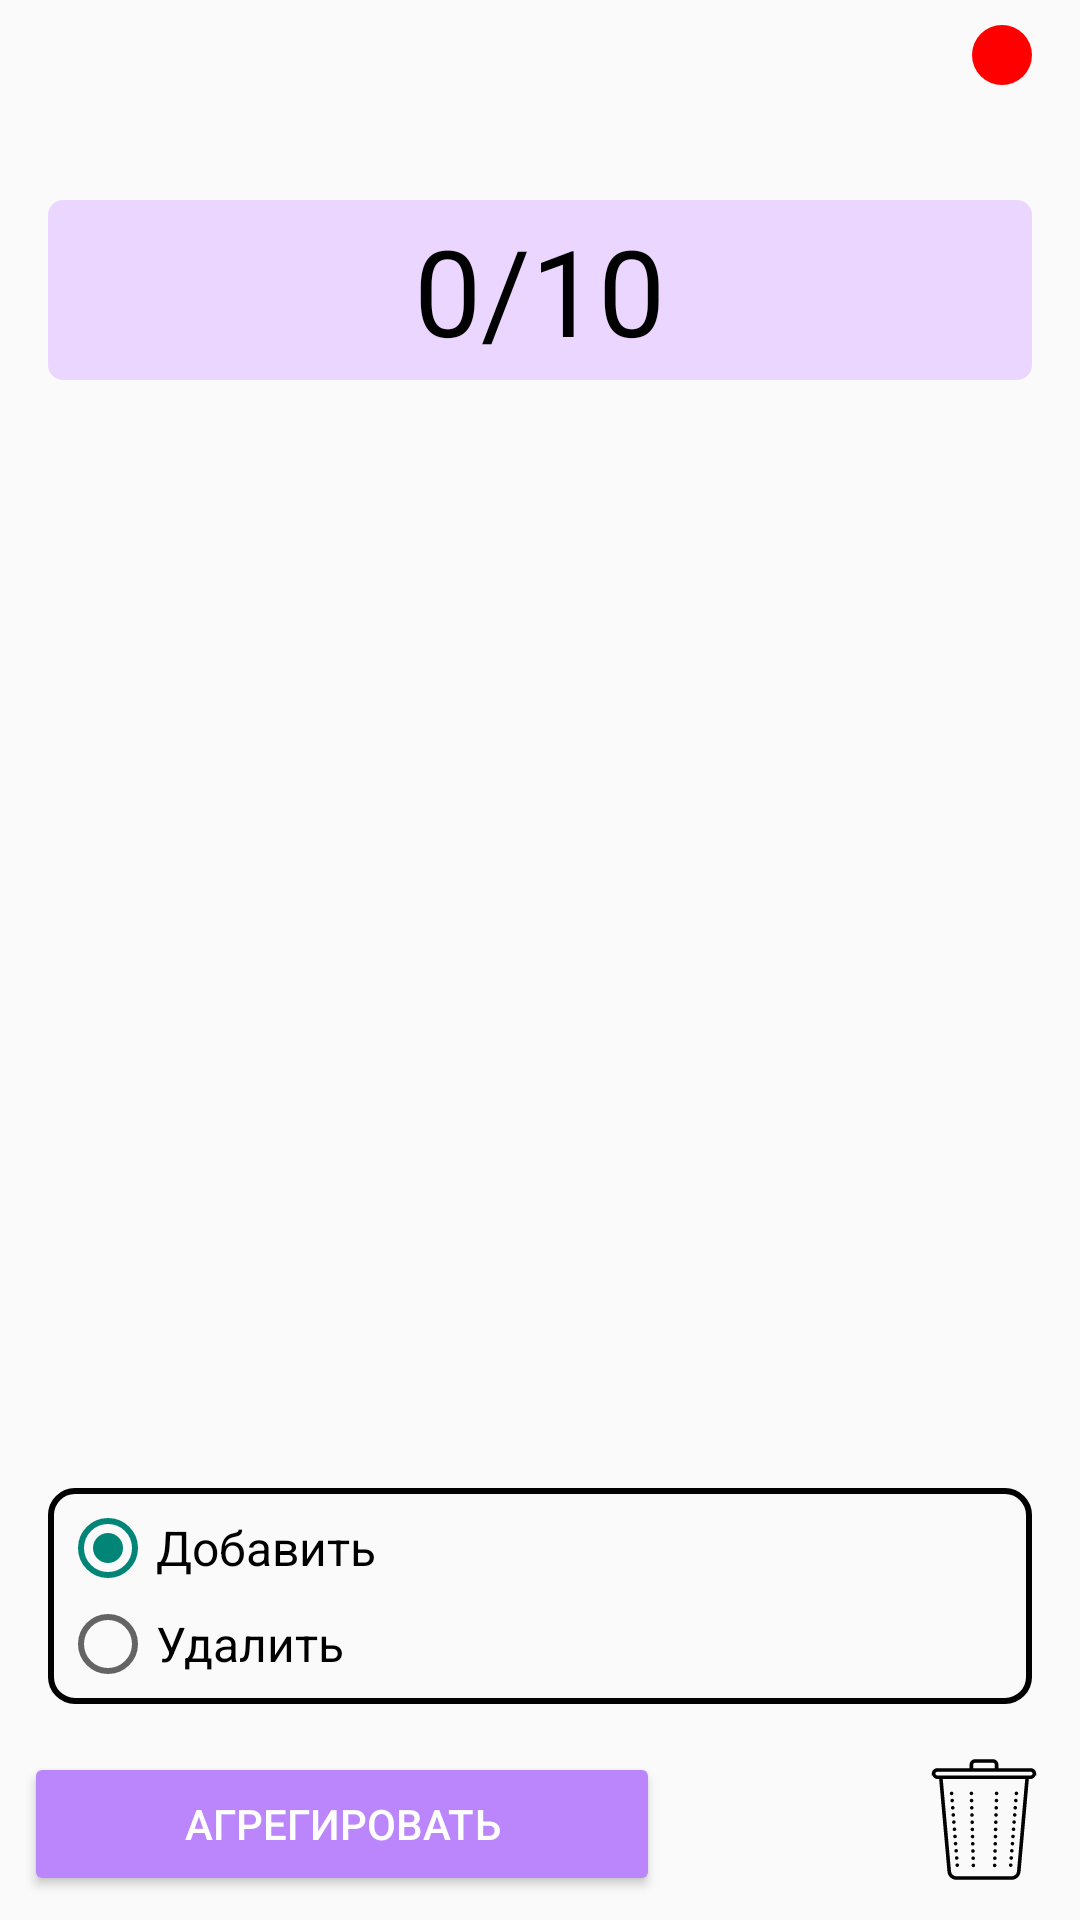

Point at icon controls on the screen. Image size 1080x1920, points as (x,y).
Очистить наполнение: (984,1819)
